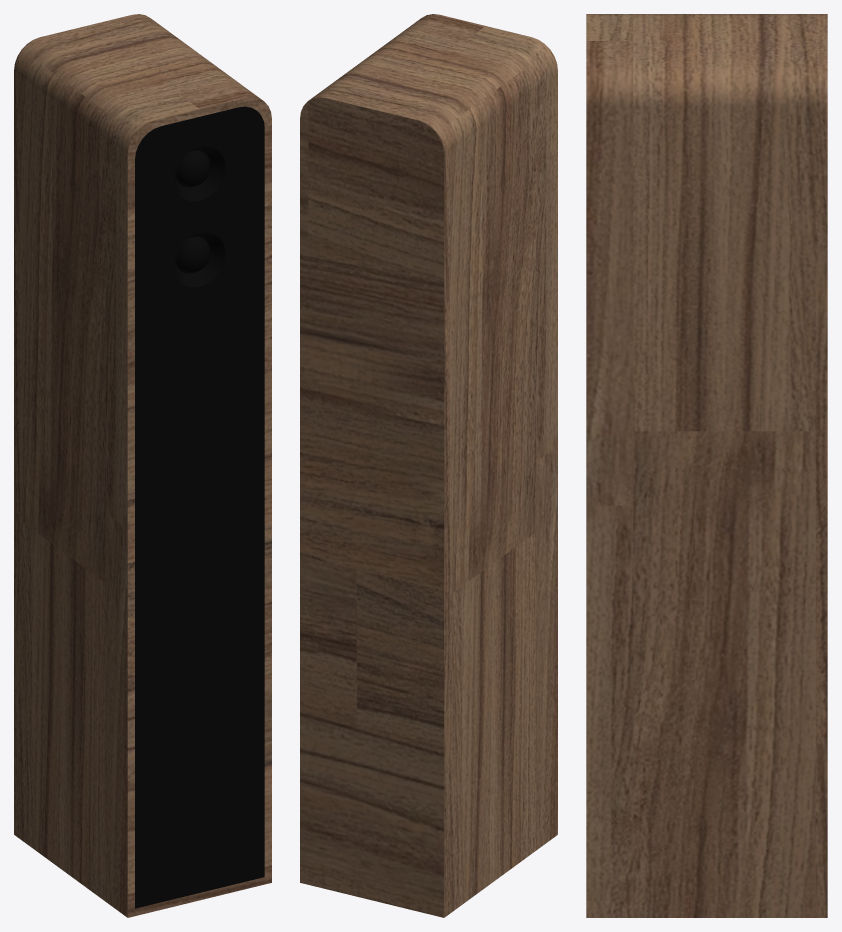
The model's file is SpeakerTall_LOD0.fbx.
3 views of the same model, side by side, from view 1: azimuth 30°, elevation 25°; view 2: azimuth 150°, elevation 25°; view 3: azimuth 270°, elevation 25° (orthographic). The views are drawn at different scales.
Visible parts, largest first — view 1: SpeakerTall_LOD0; view 2: SpeakerTall_LOD0; view 3: SpeakerTall_LOD0.
Boxes of the visible parts, x1=… form: SpeakerTall_LOD0: x1=14, y1=14, x2=271, y2=917; SpeakerTall_LOD0: x1=300, y1=14, x2=557, y2=917; SpeakerTall_LOD0: x1=586, y1=14, x2=827, y2=917.
Size of what is drawn, in the model's own units: 25.36 by 133 by 34.65.
Materials: 2 (1 with a texture image).
